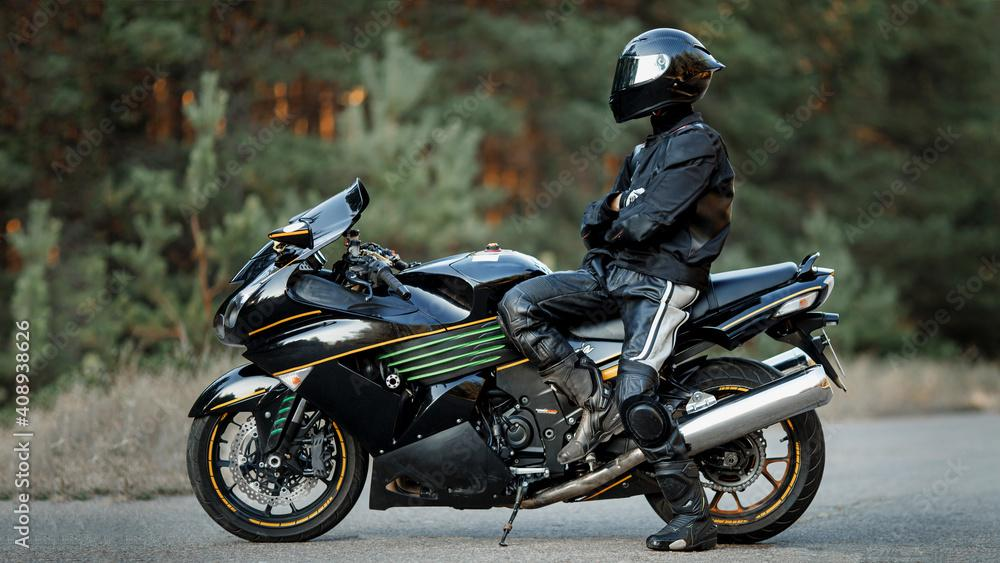helmet: (608, 27, 727, 124)
